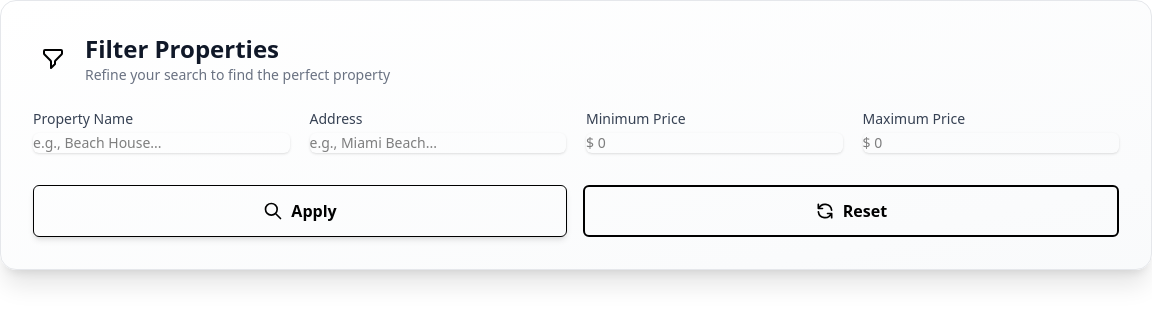
Test: PropertyFilters › should validate maximum price is not negative
The width and height of the screenshot is (1152, 328).
In the number field labelled "Maximum Price": {"x": 991, "y": 143} [862,133,1119,153], type "-500"
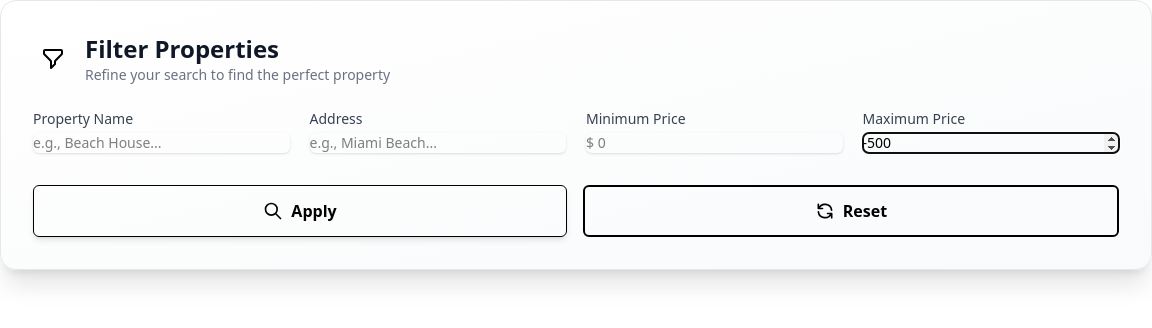
Click the button "Apply": {"x": 300, "y": 211} [33,185,567,237]
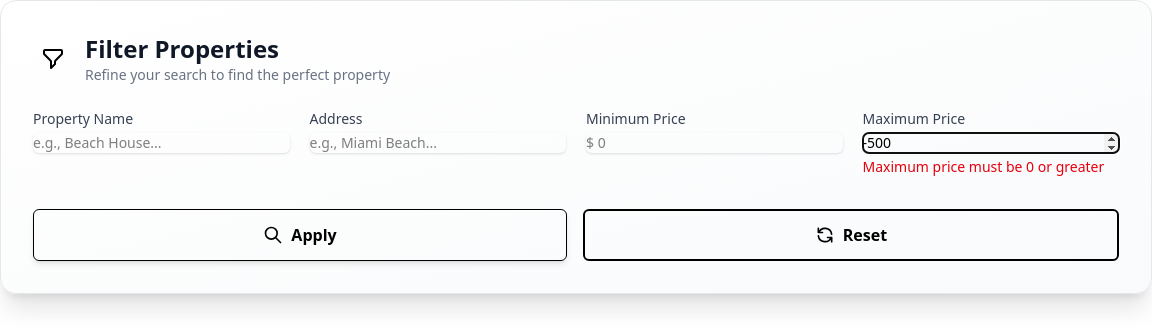
Expected: the text "Maximum price must be 0 or greater" is shown, [862,157,1119,177]
